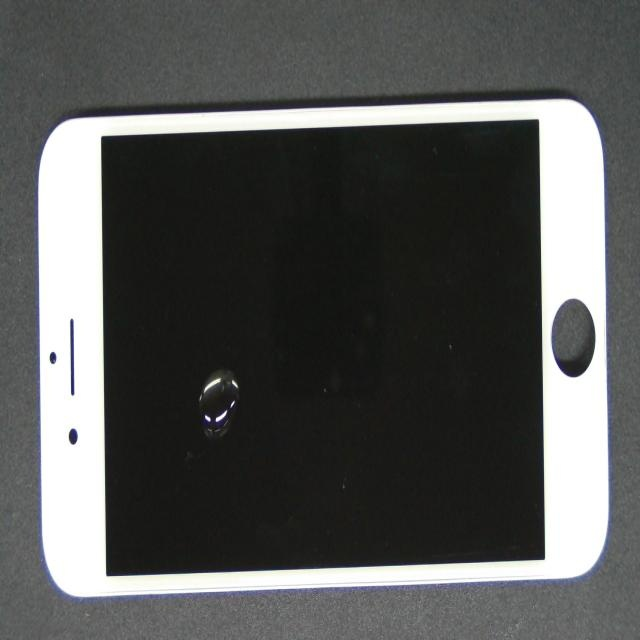oil: (137, 211, 361, 575)
